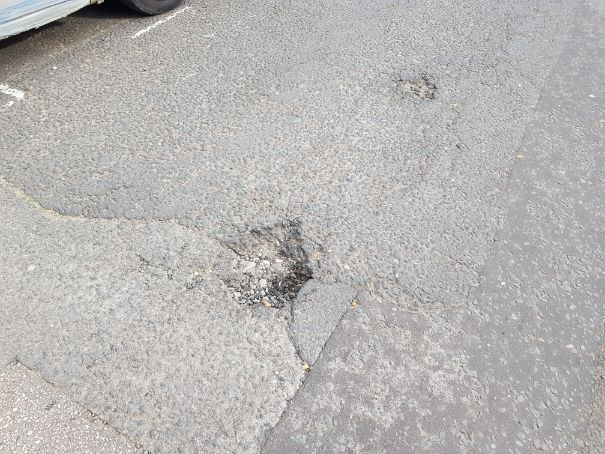pothole: (208, 215, 317, 309), (393, 72, 437, 101)
